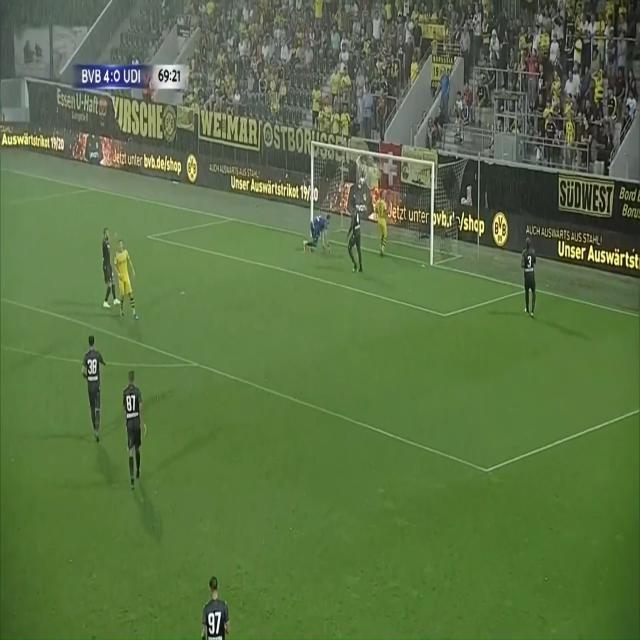goalkeeper: (303, 203, 332, 260)
player: (122, 363, 154, 495), (197, 545, 236, 640), (82, 329, 108, 445), (113, 241, 145, 324), (97, 214, 121, 310), (344, 192, 369, 279), (521, 239, 541, 323), (373, 189, 392, 260)
